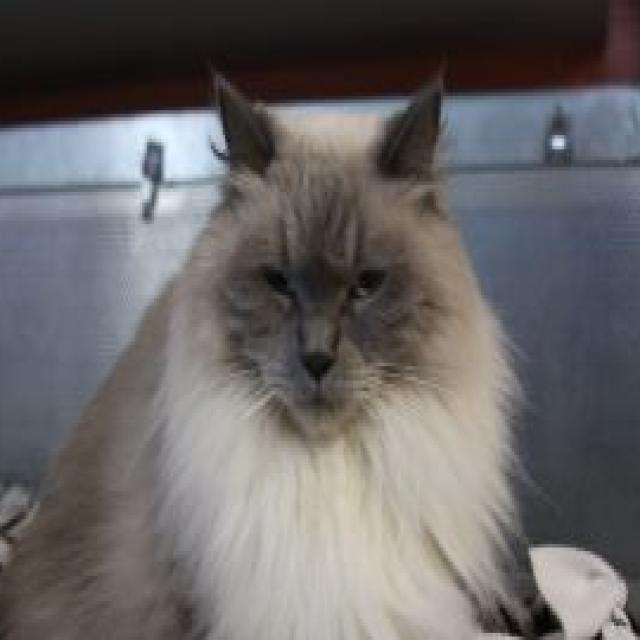Ragdoll: (0, 60, 529, 640)
